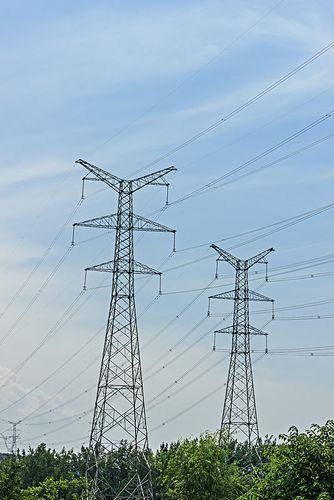power_tower: (69, 153, 178, 462), (200, 236, 285, 445)
